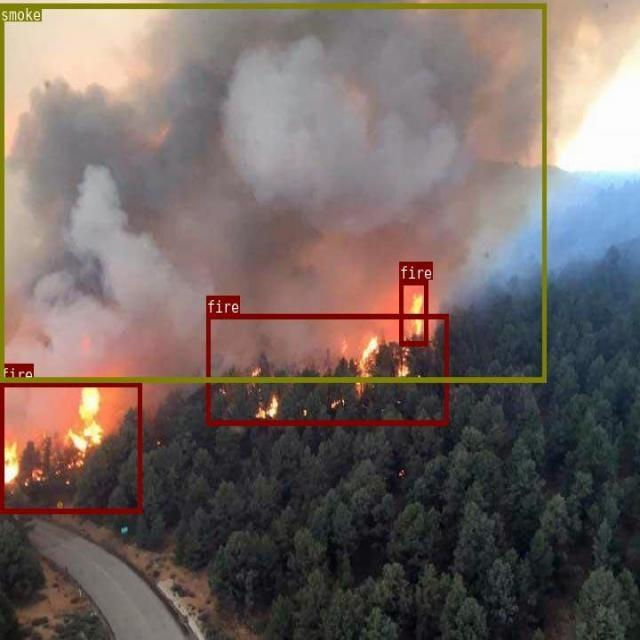fire: (206, 313, 448, 425), (0, 381, 141, 512), (399, 280, 427, 345)
smoke: (0, 4, 546, 381)
